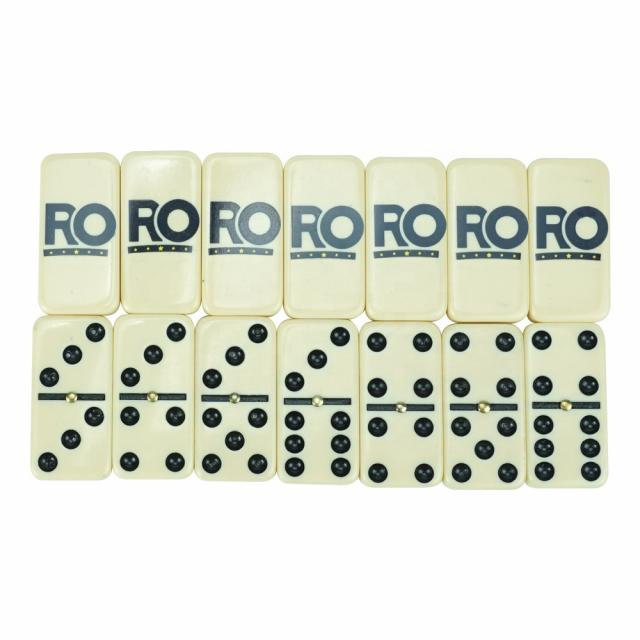domino: (25, 312, 115, 483), (439, 323, 526, 492), (111, 312, 197, 482), (192, 314, 278, 484), (522, 320, 608, 489), (276, 317, 361, 486), (358, 319, 443, 487)
